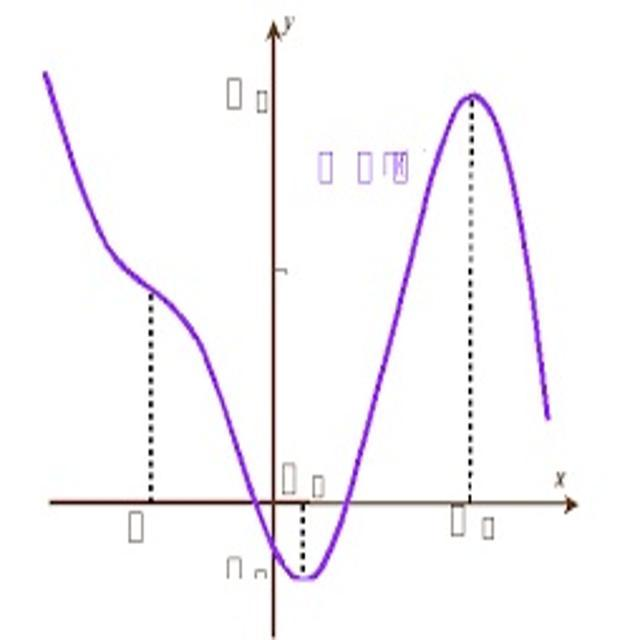axis: (45, 497, 583, 509), (269, 11, 279, 638)
line: (38, 66, 557, 589)
